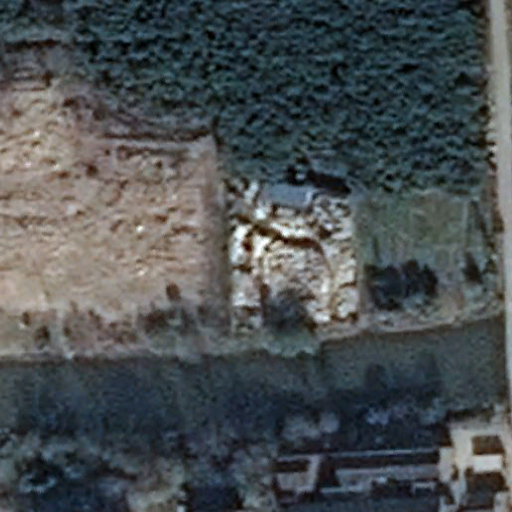msw: (229, 198, 359, 316)
